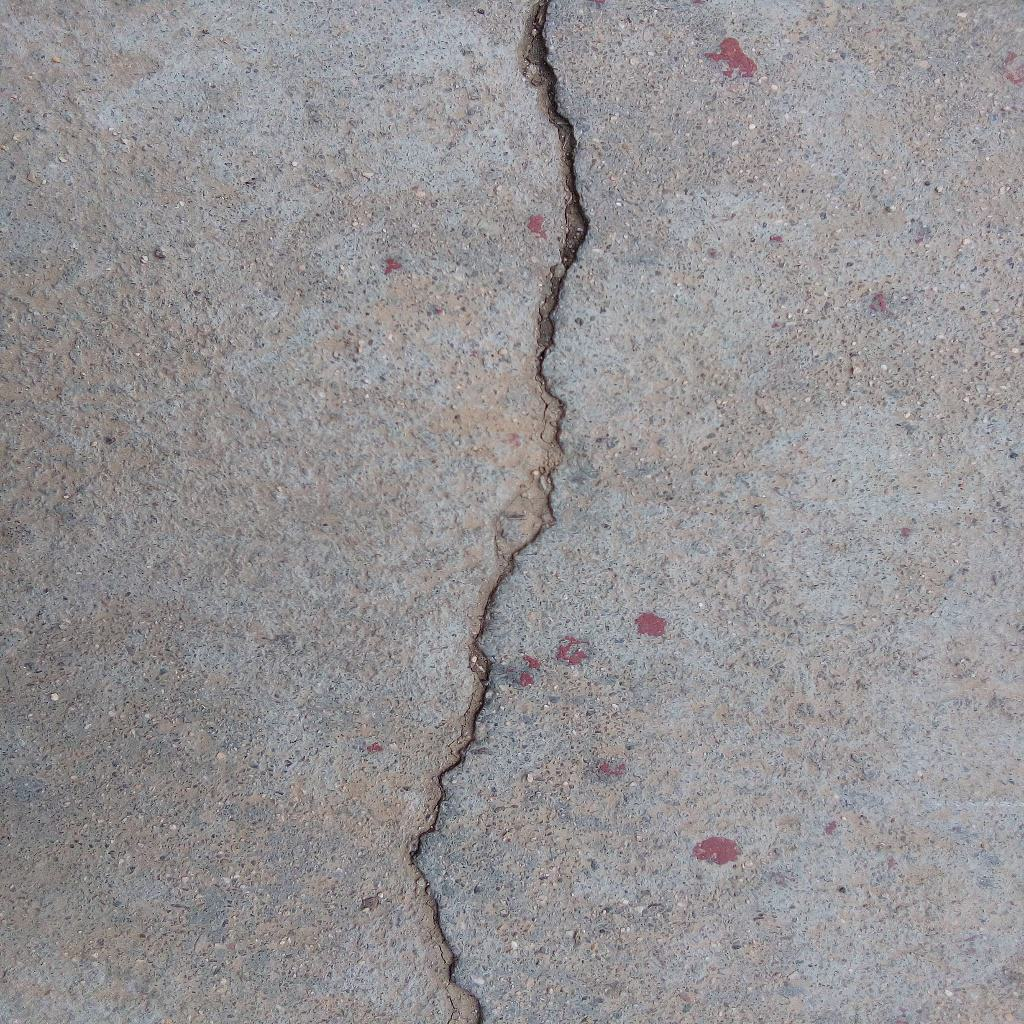Crack: (406, 1, 592, 1024)
